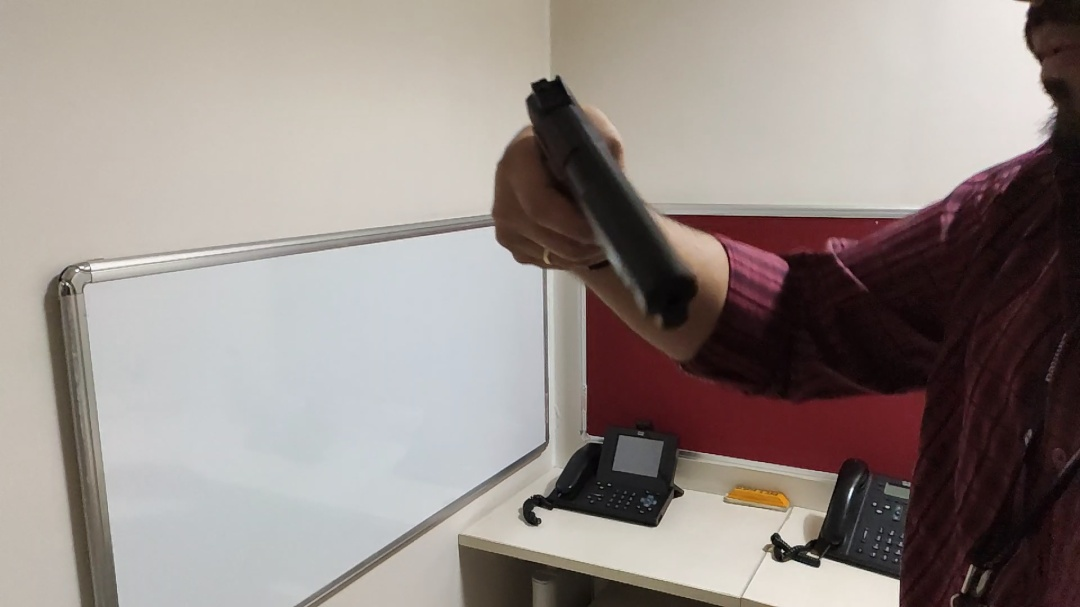gun: (483, 57, 717, 351)
